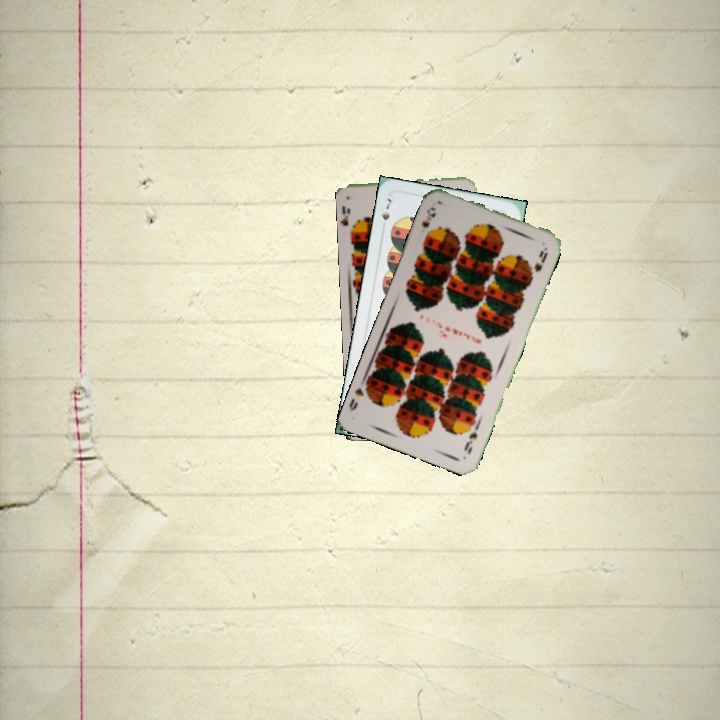S7: (378, 194, 394, 233)
S9: (418, 203, 438, 242), (460, 427, 480, 457), (343, 204, 359, 236)
